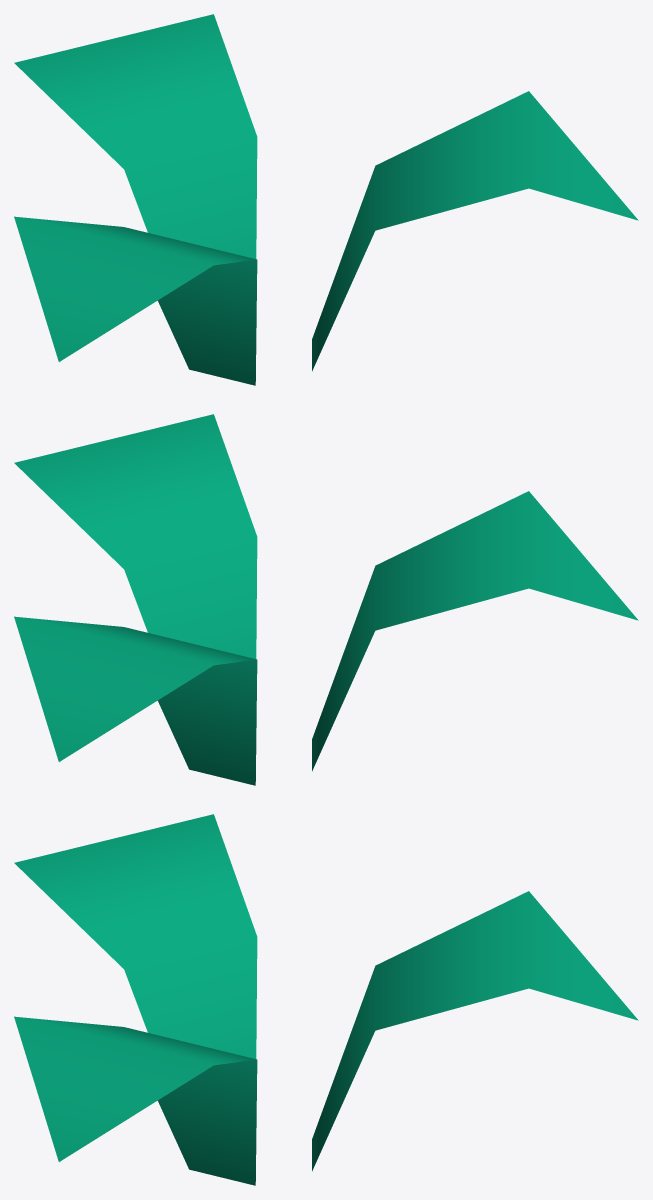
File: foliage1.obj
3 renders of one model, top to bottom at view 1: azimuth 30°, elevation 25°; view 2: azimuth 150°, elevation 25°; view 3: azimuth 270°, elevation 25°, orthographic.
Visible parts, largest first — view 1: mergedBlocks; view 2: mergedBlocks; view 3: mergedBlocks.
Boxes of the visible parts, x1,y1,x2,y2 form: mergedBlocks: (14,14,638,385); mergedBlocks: (14,414,638,785); mergedBlocks: (14,814,638,1185).
Bounding box in the file's own units: 0.7471 × 0.266 × 0.6971.
